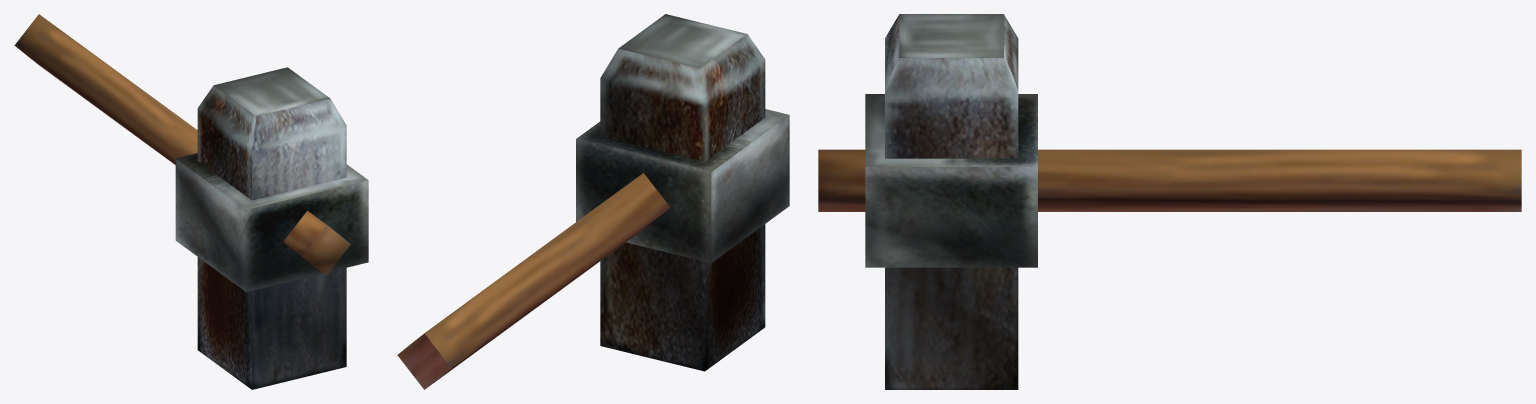
Rendered from Hummer.glb.
The picture shows the model from 3 angles, left to right: view 1: azimuth 30°, elevation 25°; view 2: azimuth 150°, elevation 25°; view 3: azimuth 270°, elevation 25°; orthographic projection. The views are drawn at different scales.
Parts seen in each view (by area): view 1: object1.001; view 2: object1.001; view 3: object1.001.
Part boxes in pixels (x1,y1,x2,y2): object1.001: [14, 14, 368, 389]; object1.001: [397, 14, 789, 389]; object1.001: [818, 14, 1521, 389].
Size of the model in its own units: 0.1596 by 0.3323 by 0.65.
Materials: 1 (1 with a texture image).
